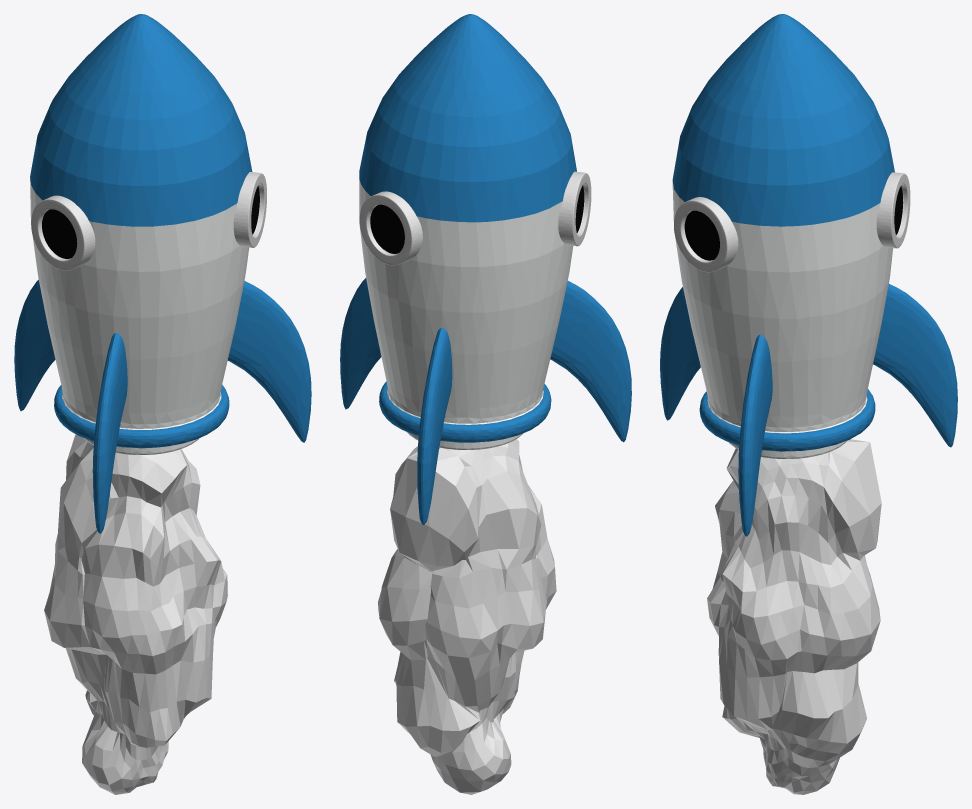
The model's file is rocket.glb.
3 views of the same model, side by side, from view 1: azimuth 30°, elevation 25°; view 2: azimuth 150°, elevation 25°; view 3: azimuth 270°, elevation 25° (orthographic). The views are drawn at different scales.
Visible parts, largest first — view 1: razzo.004, Icosphere.003; view 2: razzo.004, Icosphere.003; view 3: razzo.004, Icosphere.003.
Boxes of the visible parts, <box> form: razzo.004: <box>14,14,311,533</box>; Icosphere.003: <box>44,434,227,794</box>; razzo.004: <box>340,14,631,524</box>; Icosphere.003: <box>378,439,556,794</box>; razzo.004: <box>660,14,957,536</box>; Icosphere.003: <box>707,439,881,794</box>.
Bounding box in the file's own units: 3.85 × 11.11 × 3.83.
